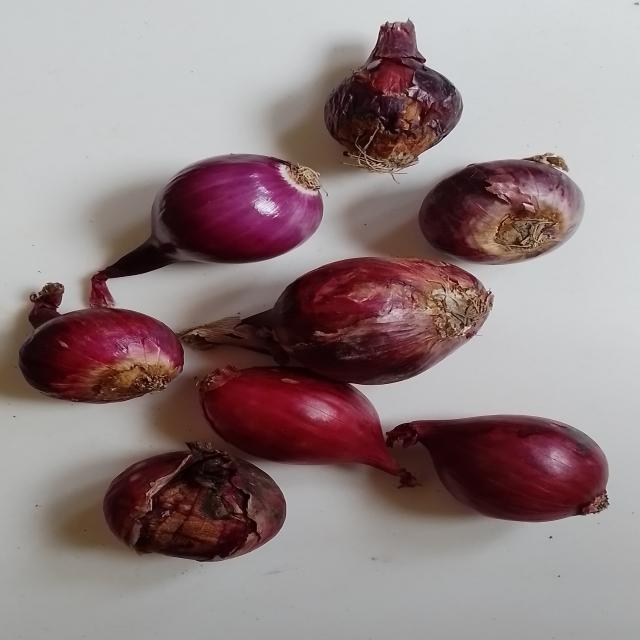Onion: (181, 258, 493, 384), (103, 154, 323, 278), (198, 367, 415, 486), (388, 416, 610, 522), (103, 444, 286, 562), (325, 19, 464, 172), (420, 153, 585, 264), (19, 308, 182, 404)
